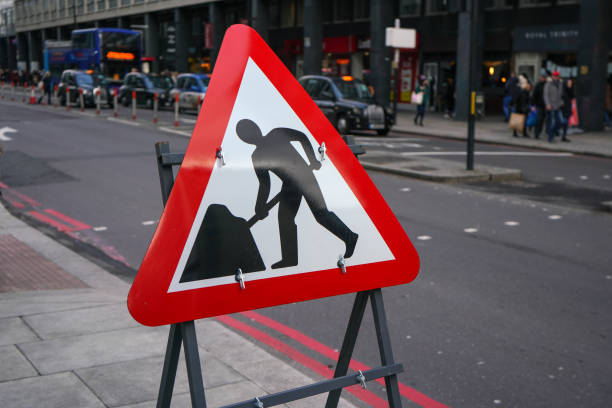yaya: (516, 63, 586, 160)
yol_calismasi_levha: (126, 20, 419, 322)
